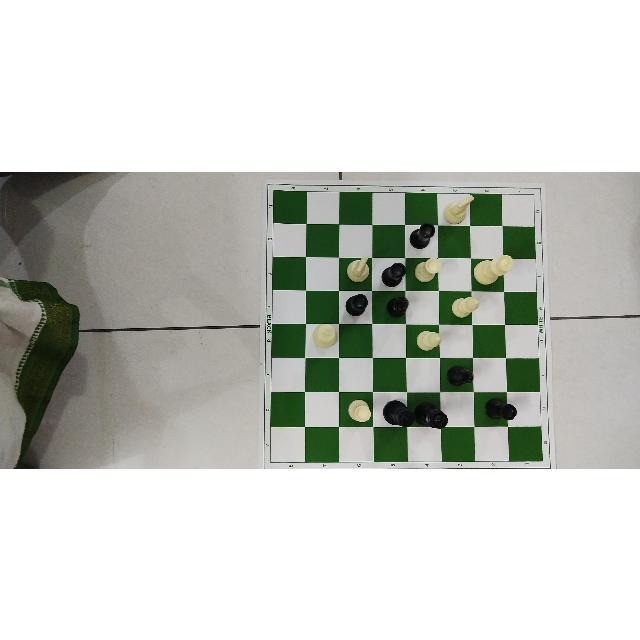black-bishop: (446, 364, 474, 385), (386, 295, 409, 317)
black-king: (382, 399, 413, 426)
black-queen: (415, 401, 449, 426)
black-rook: (484, 397, 518, 422), (409, 222, 437, 248), (381, 261, 407, 287), (345, 292, 369, 314)
white-bishop: (451, 294, 481, 318), (416, 330, 441, 350)
white-king: (311, 322, 337, 348)
white-knight: (443, 194, 475, 224), (344, 253, 369, 282)
white-queen: (474, 253, 514, 284)
white-rook: (414, 256, 442, 281), (348, 398, 372, 423)
